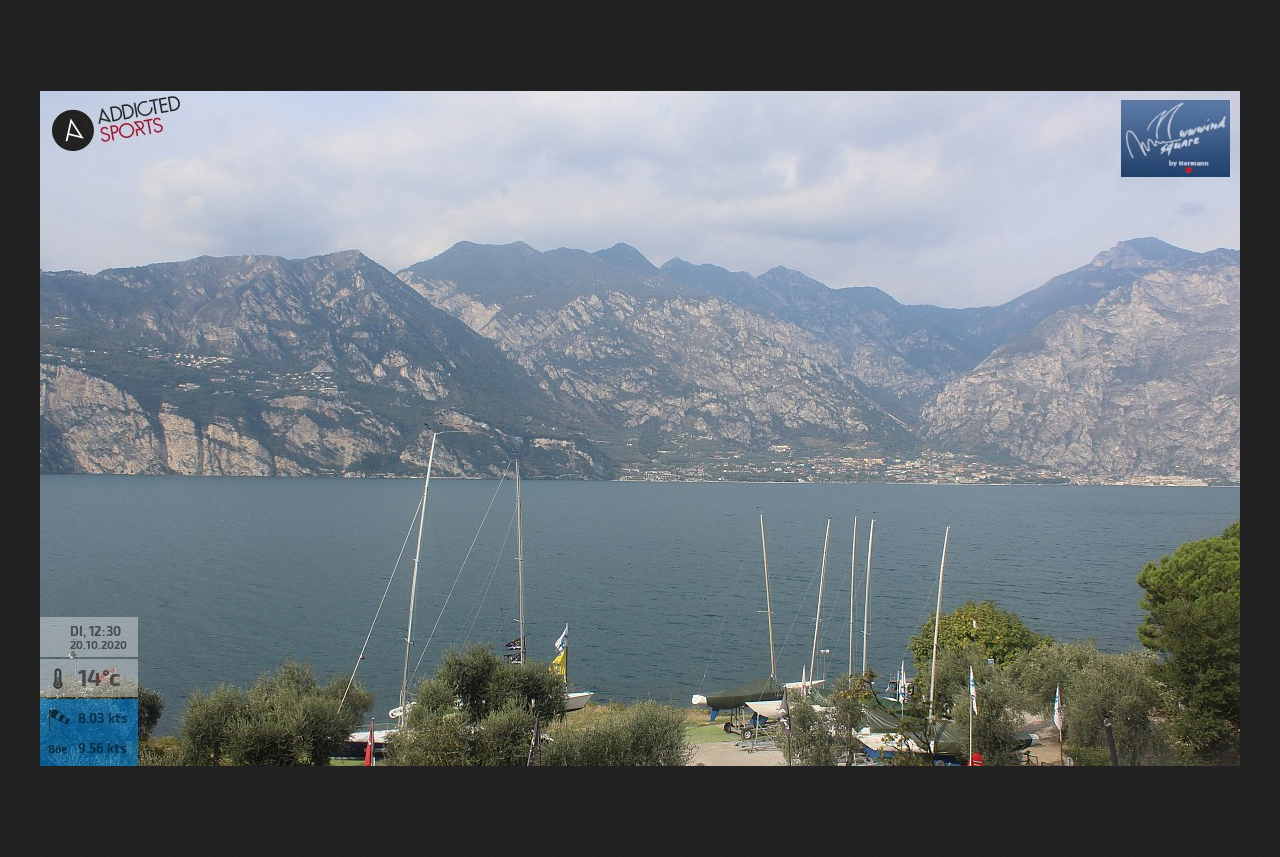no: (966, 661, 984, 716), (1051, 681, 1068, 732), (896, 664, 909, 705), (553, 621, 571, 650)
